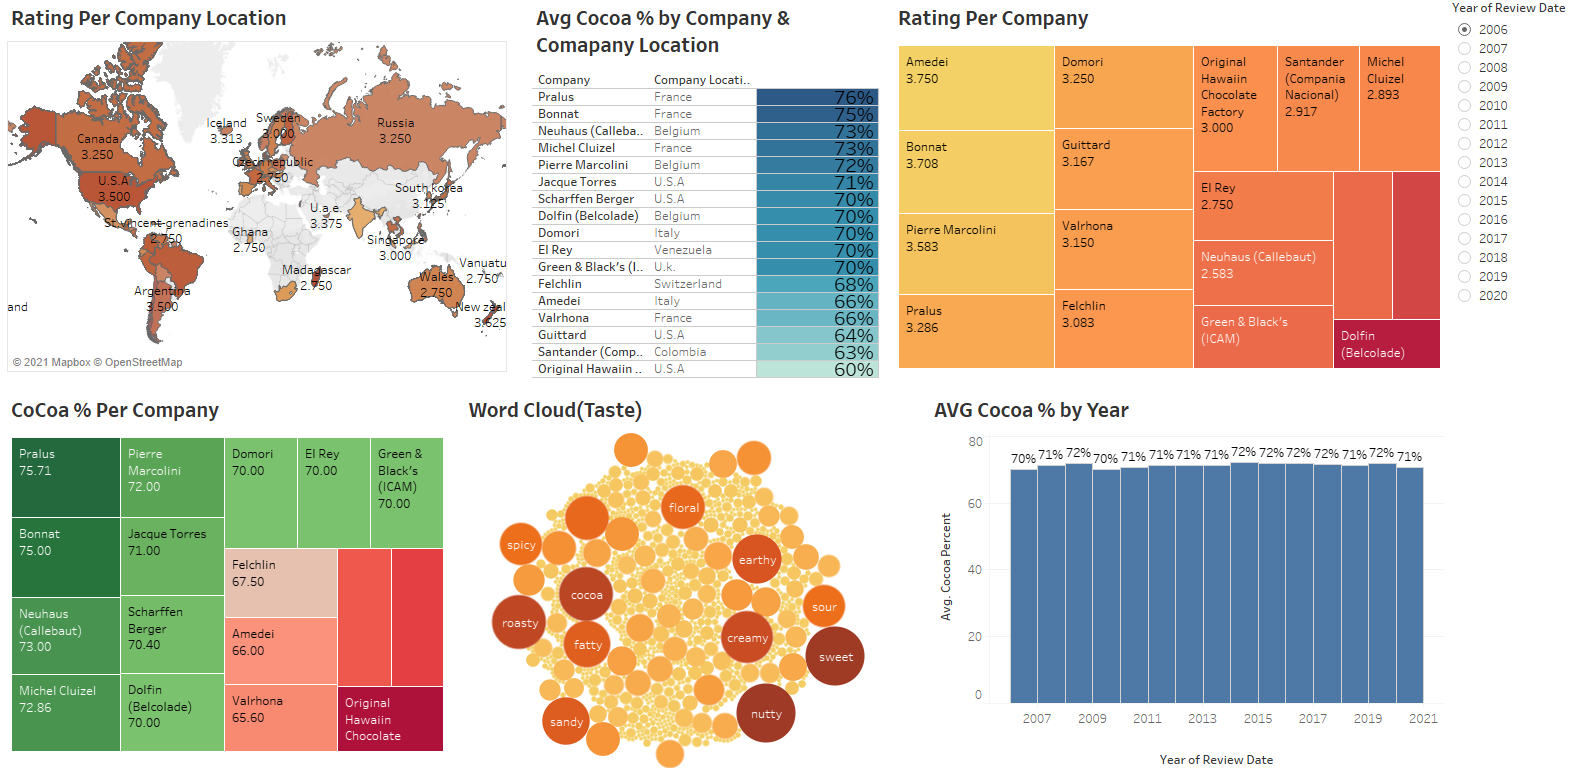

What the dashboard file says about the page in this screenshot:
{"tool":"tableau","page":{"name":"Dashboard 1","canvas":[1600,800],"ordinal":0},"visuals":[{"type":"worksheet","box":[0,0,1600,800]},{"type":"worksheet","param":"horz","box":[8,8,1584,784]},{"type":"worksheet","box":[8,8,1445,784]},{"type":"worksheet","title":"Sheet 2","mark":"Automatic","box":[8,8,525,392]},{"type":"worksheet","title":"Sheet 12","mark":"Square","rows":["company","company_location"],"box":[533,8,362,392]},{"type":"worksheet","title":"Sheet 17","mark":"Automatic","box":[895,8,558,392]},{"type":"worksheet","param":"vert","box":[1453,8,139,784]},{"type":"worksheet","title":"Sheet 4","mark":"Automatic","param":"[federated.1gjla3b09nuyqy106dssv152z44c].[yr:review_date:ok]","box":[1453,8,139,463]},{"type":"worksheet","title":"Sheet 4","mark":"Automatic","box":[8,400,457,392]},{"type":"worksheet","title":"Sheet 14","mark":"Circle","box":[465,400,466,392]},{"type":"worksheet","title":"Sheet 11","mark":"Bar","rows":["cocoa_percent"],"cols":["review_date"],"box":[931,400,522,392]}]}

Visuals, with their boxes in screenshot pixels (x1, y1, x2, y2), scaled from the page's 1600x800 canvas onto the 1581x770 screenshot:
worksheet: 0 0 1580 769
worksheet: 8 8 1573 762
worksheet: 8 8 1436 762
"Sheet 2" worksheet: 8 8 527 385
"Sheet 12" worksheet (Square marks): 527 8 884 385
"Sheet 17" worksheet: 884 8 1436 385
worksheet: 1436 8 1573 762
"Sheet 4" worksheet: 1436 8 1573 453
"Sheet 4" worksheet: 8 385 459 762
"Sheet 14" worksheet (Circle marks): 459 385 920 762
"Sheet 11" worksheet (Bar marks): 920 385 1436 762
